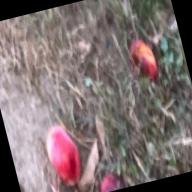Apples: (43, 124, 86, 188), (125, 37, 161, 87), (96, 170, 127, 192)
